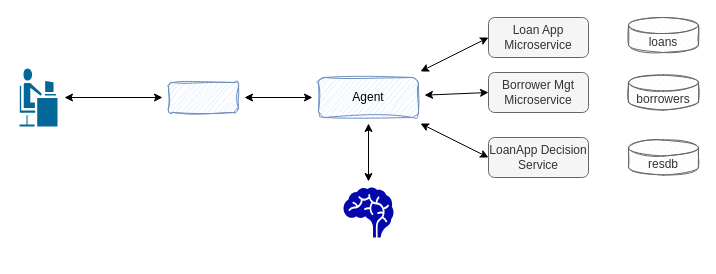
This 716x274 diagram has some shape labels left out. The centre of each missing label's shape, as x and y in pixels:
ChatBot: the point at 203,97
LLM: the point at 368,212
